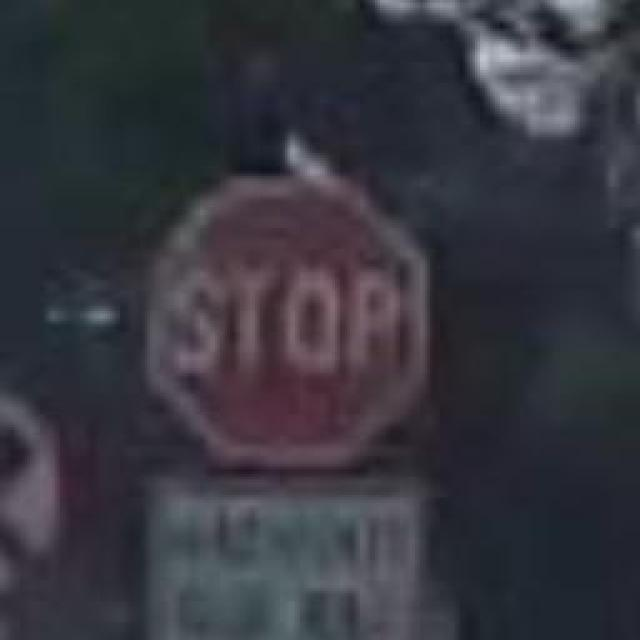traffic sign: (153, 181, 428, 464)
